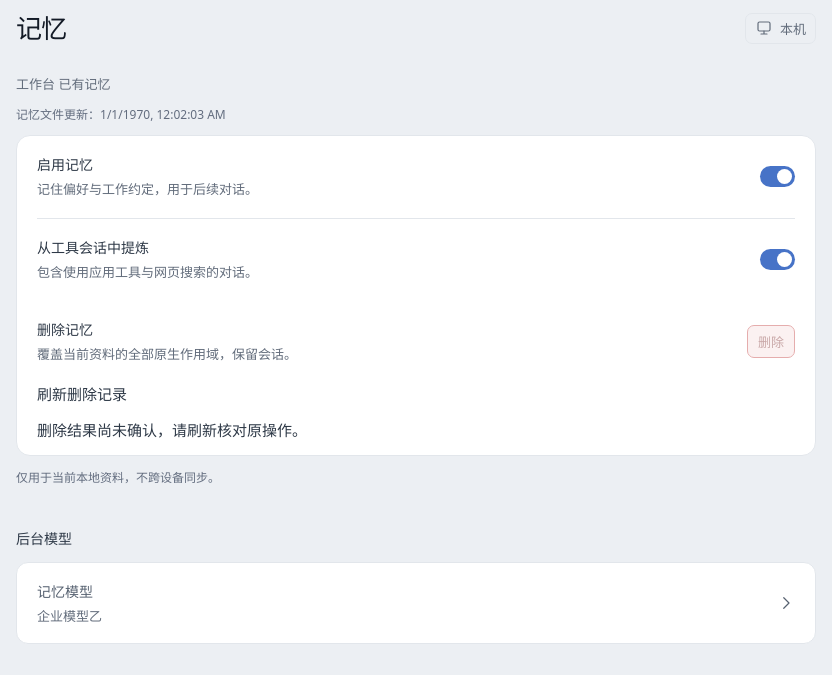
Test: 记忆设置 › 读取实际状态，保存关闭设置后停止启用工具会话开关
The width and height of the screenshot is (832, 675).
Expected: the text "企业模型乙" is shown, [37, 606, 102, 625]
Click the switch named "启用记忆" in the row of "记住偏好与工作约定，用于后续对话。" at (778, 177), box [760, 166, 795, 187]
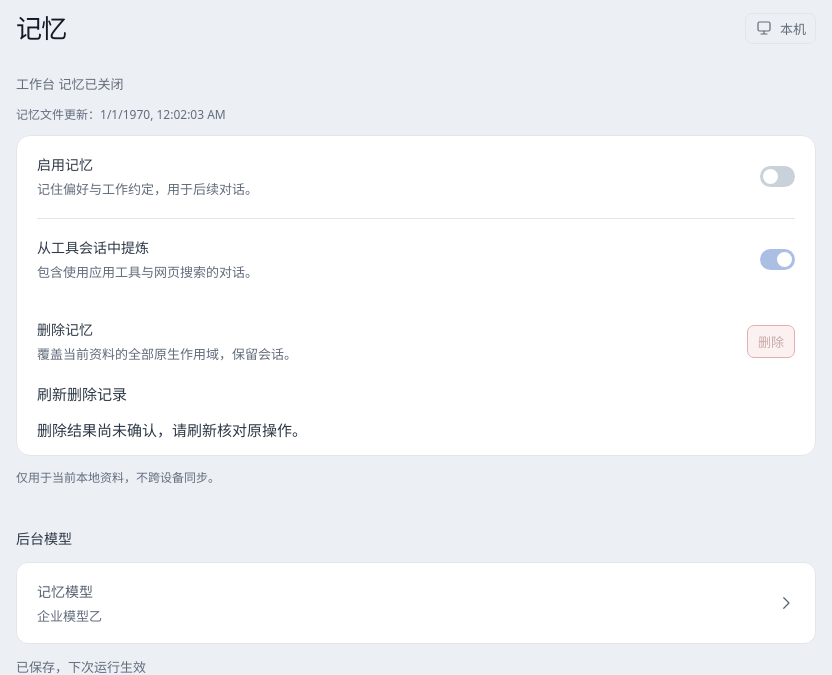
Expected: the text "已保存，下次运行生效" is shown, [16, 658, 146, 674]
Expected: the text "记忆已关闭" is shown, [58, 75, 123, 93]
Expected: the switch named "从工具会话中提炼" in the row of "包含使用应用工具与网页搜索的对话。" is disabled, [760, 249, 795, 270]
